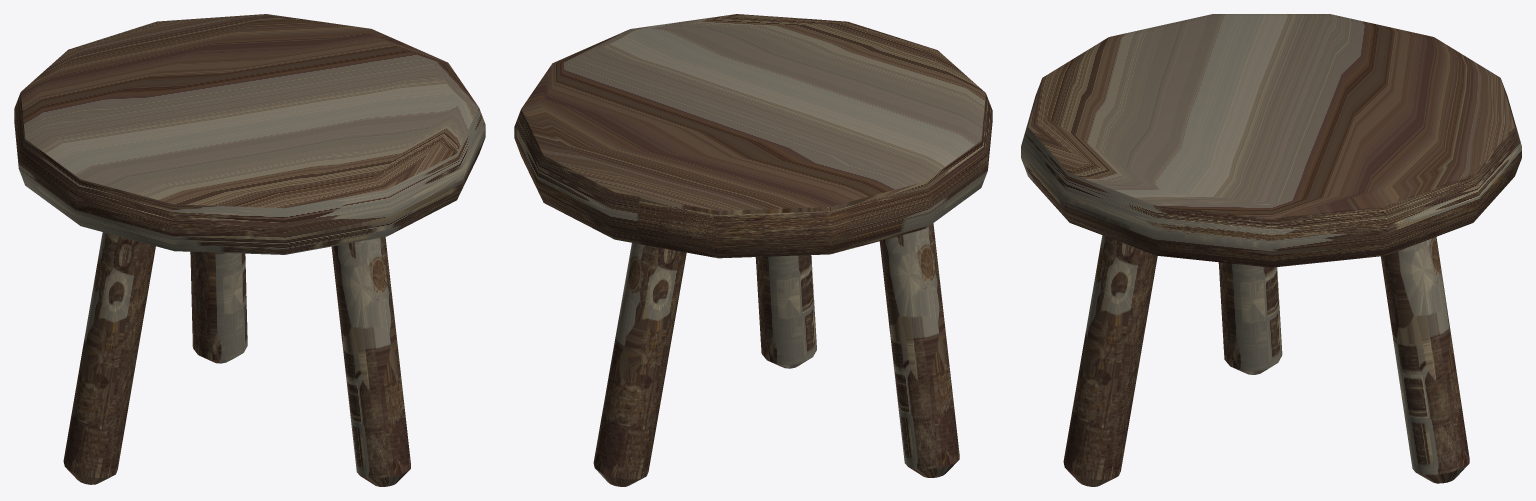
File: Stołek.fbx
The picture shows the model from 3 angles, left to right: view 1: azimuth 30°, elevation 25°; view 2: azimuth 150°, elevation 25°; view 3: azimuth 270°, elevation 25°; orthographic projection. The views are drawn at different scales.
Parts seen in each view (by area): view 1: Cylinder761; view 2: Cylinder761; view 3: Cylinder761.
Part boxes in pixels (x1=…): Cylinder761: x1=14, y1=14, x2=485, y2=486; Cylinder761: x1=514, y1=14, x2=992, y2=486; Cylinder761: x1=1021, y1=14, x2=1521, y2=486.
Bounding box in the file's own units: 0.2955 × 0.2285 × 0.2977.
